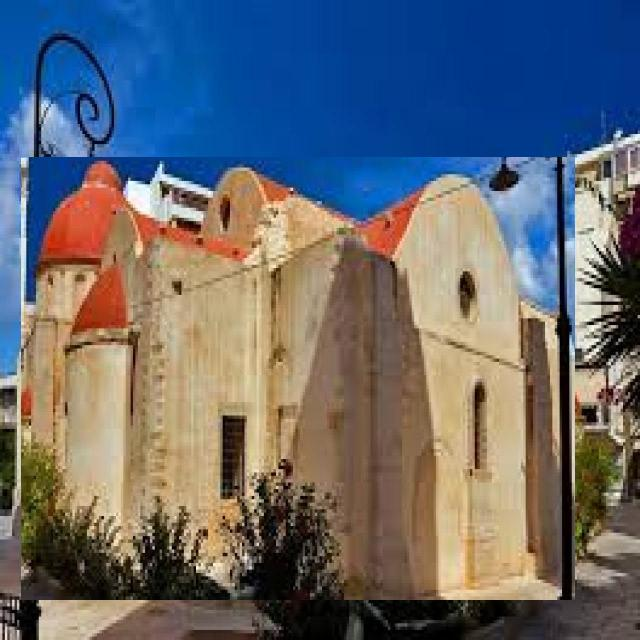Agia Aikaterini: (22, 158, 576, 601)
